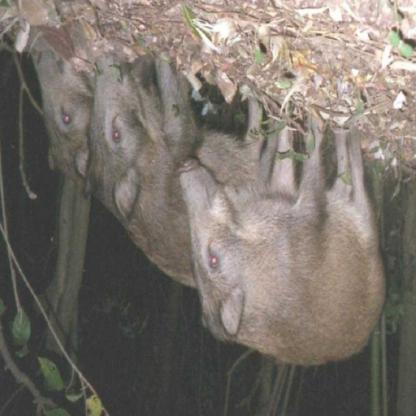boar: (168, 102, 415, 383), (38, 47, 309, 260), (0, 34, 107, 220)
